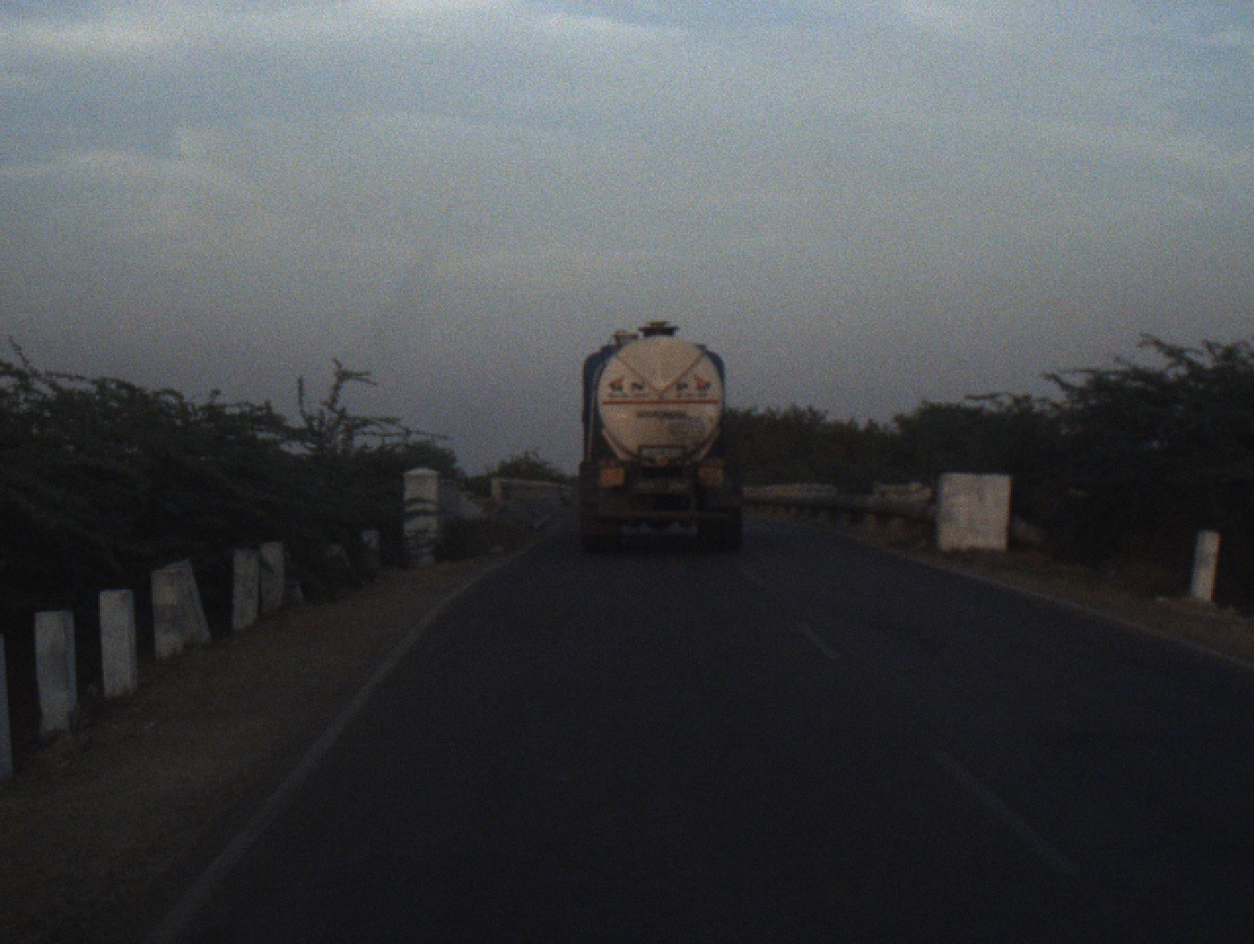truck: (567, 312, 748, 560)
